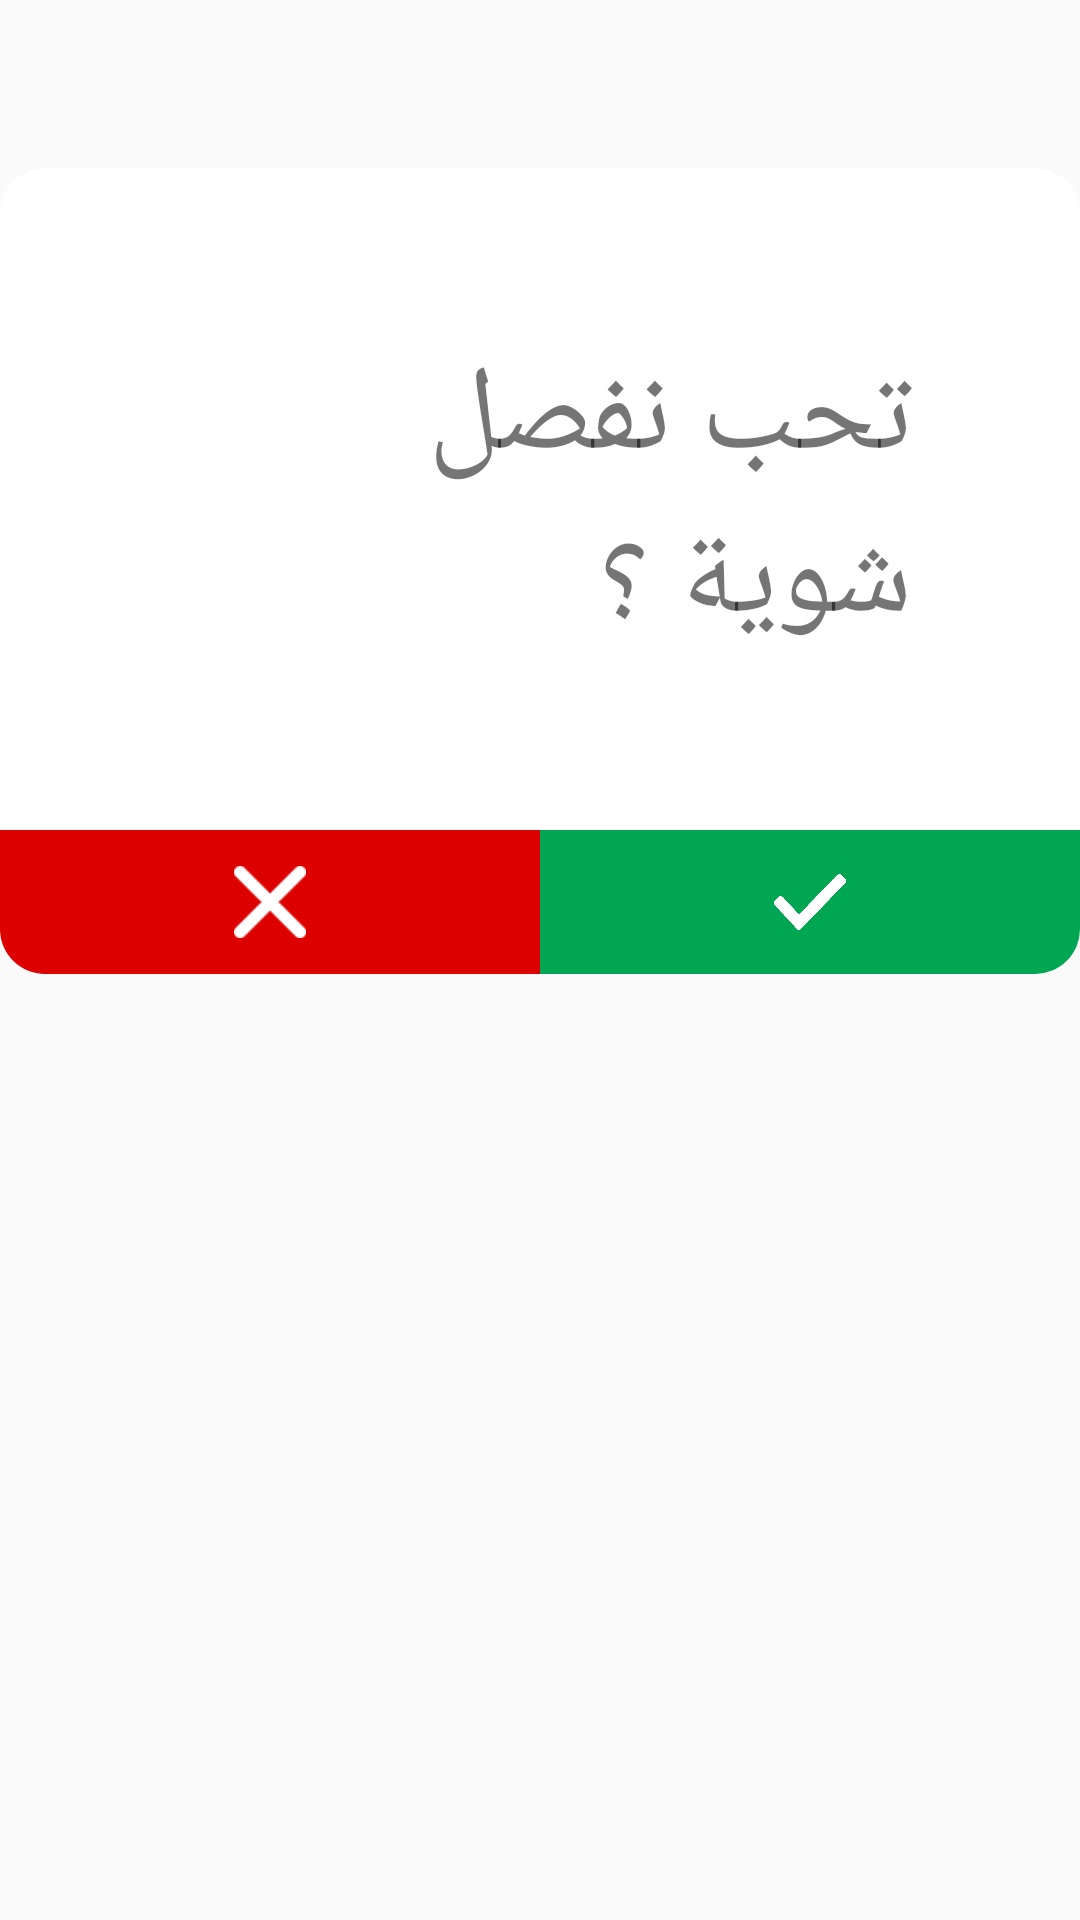

Screen size 1080*1920. Icon name, then its box in pixels as Rect(x1, y1, x2, y2):
check: Rect(774, 874, 846, 930)
wrong: Rect(234, 866, 306, 938)
